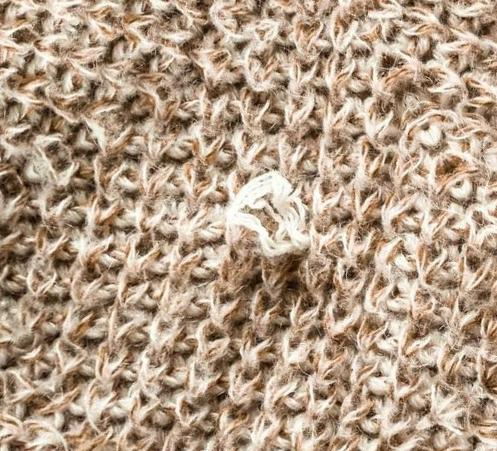snag: (222, 166, 314, 279)
